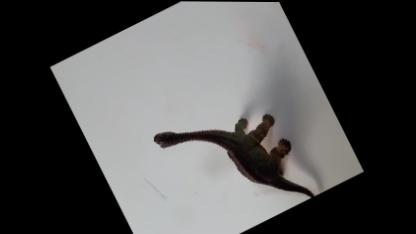brontosaurus: (149, 77, 319, 233)
